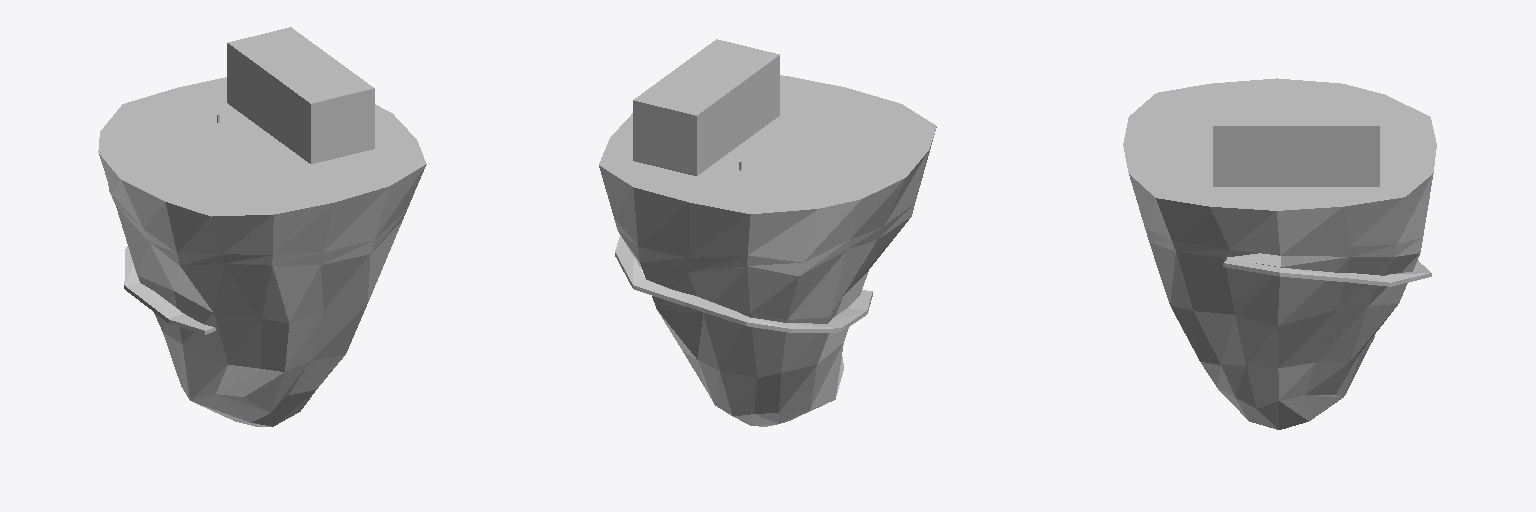
File: church_island.obj
3 views of the same model, side by side, from view 1: azimuth 30°, elevation 25°; view 2: azimuth 150°, elevation 25°; view 3: azimuth 270°, elevation 25° (orthographic).
Parts seen in each view (by area): view 1: churchIsland, churchProxy, pCube1; view 2: churchIsland, churchProxy, pCube1; view 3: churchIsland, churchProxy, pCube1.
Boxes of the visible parts, <box> form: churchIsland: <box>98,77,426,426</box>; churchProxy: <box>227,27,374,163</box>; pCube1: <box>124,246,215,334</box>; churchIsland: <box>599,75,936,426</box>; churchProxy: <box>633,39,779,175</box>; pCube1: <box>615,235,872,332</box>; churchIsland: <box>1123,78,1436,429</box>; churchProxy: <box>1213,95,1379,186</box>; pCube1: <box>1223,259,1431,286</box>.
Bounding box in the file's own units: 70.75 × 84.85 × 70.37.